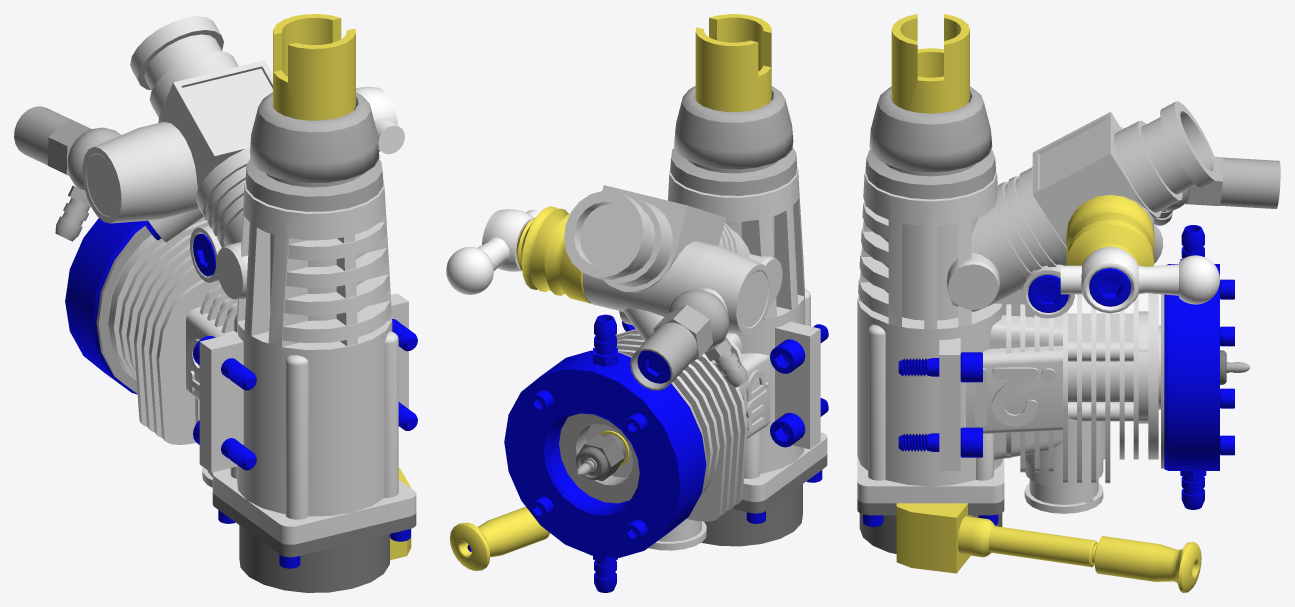
The model's file is 3dpea.glb.
The picture shows the model from 3 angles, left to right: view 1: azimuth 30°, elevation 25°; view 2: azimuth 150°, elevation 25°; view 3: azimuth 270°, elevation 25°; orthographic projection. The views are drawn at different scales.
Parts seen in each view (by area): view 1: polySurface29 polySurface31, polySurface29 polySurface91, polySurface53, polySurface74 polySurface85, polySurface98, polySurface74 polySurface81, polySurface29 polySurface42, polySurface29 polySurface89, polySurface101 #0, pCylinder17, polySurface30 polySurface29, polySurface7 (+31 smaller); view 2: pCylinder17, polySurface29 polySurface91, polySurface74 polySurface85, polySurface53, polySurface98, polySurface101 #0, polySurface109 THROTTLE:polySurface2, polySurface29 polySurface42, polySurface104 polySurface108, polySurface74 polySurface84, pCylinder16, polySurface29 polySurface89 (+30 smaller); view 3: polySurface29 polySurface31, polySurface29 polySurface91, pCylinder17, polySurface104 polySurface108, polySurface53, polySurface74 polySurface81, polySurface98, pCube5, polySurface109 THROTTLE:polySurface2, polySurface105 polySurface104, polySurface101 #0, polySurface29 polySurface73 (+46 smaller).
Part boxes in pixels (x1,y1,x2,y2): polySurface29 polySurface31: (237,316,392,516); polySurface29 polySurface91: (245,92,383,211); polySurface53: (237,178,391,346); polySurface74 polySurface85: (82,121,199,223); polySurface98: (273,14,355,120); polySurface74 polySurface81: (159,60,272,185); polySurface29 polySurface42: (199,293,408,472); polySurface29 polySurface89: (239,525,389,592); polySurface101 #0: (14,106,120,241); pCylinder17: (65,218,144,394); polySurface30 polySurface29: (212,468,416,544); polySurface7: (156,279,220,444); pCylinder17: (504,350,706,557); polySurface29 polySurface91: (670,86,796,195); polySurface74 polySurface85: (582,241,772,334); polySurface53: (668,165,804,319); polySurface98: (695,14,771,111); polySurface101 #0: (630,289,747,390); polySurface109 THROTTLE:polySurface2: (516,206,591,303); polySurface29 polySurface42: (775,321,820,449); polySurface104 polySurface108: (449,506,549,570); polySurface74 polySurface84: (564,191,650,279); pCylinder16: (559,352,707,503); polySurface29 polySurface89: (701,484,802,546); polySurface29 polySurface31: (857,295,1002,486); polySurface29 polySurface91: (865,86,995,199); pCylinder17: (1164,264,1219,470); polySurface104 polySurface108: (958,516,1201,592); polySurface53: (863,171,997,329); polySurface74 polySurface81: (1032,112,1136,234); polySurface98: (891,14,969,113); pCube5: (966,345,1062,433); polySurface109 THROTTLE:polySurface2: (1066,194,1154,266); polySurface105 polySurface104: (896,503,971,573); polySurface101 #0: (1154,156,1280,225); polySurface29 polySurface73: (881,217,978,320).
Size of the model in its own units: 22.55 by 36.73 by 28.17.
